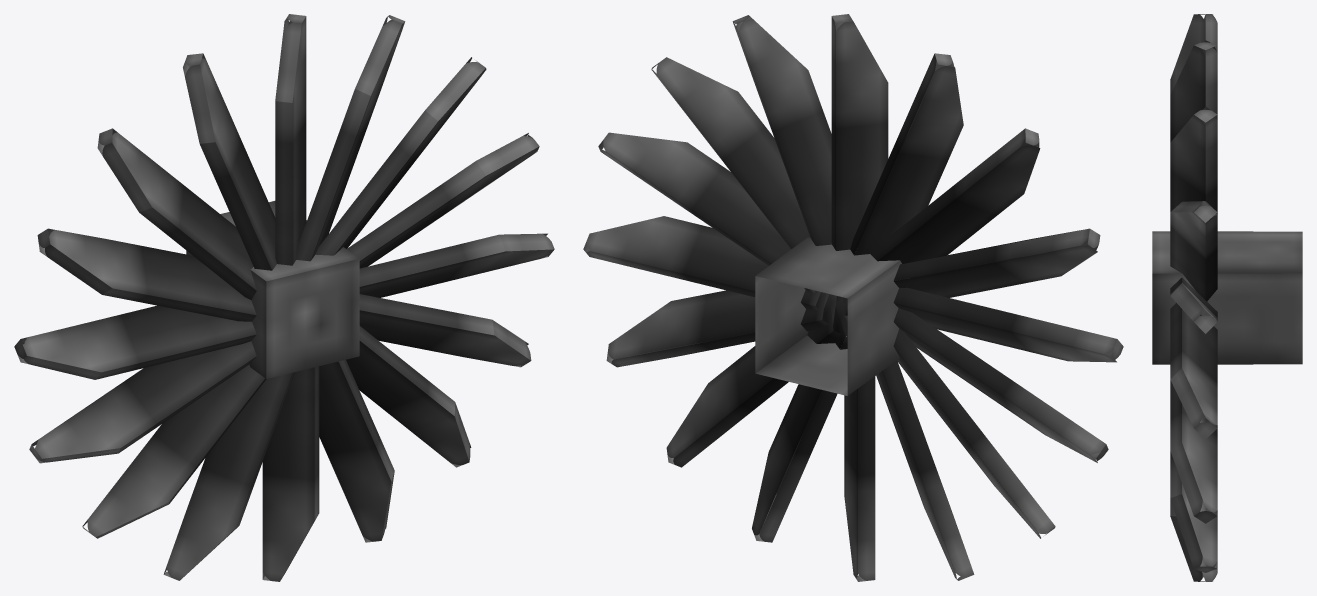
Rendered from gas_turbine_fan.obj.
The picture shows the model from 3 angles, left to right: view 1: azimuth 30°, elevation 25°; view 2: azimuth 150°, elevation 25°; view 3: azimuth 270°, elevation 25°; orthographic projection. The views are drawn at different scales.
Visible parts, largest first — view 1: cube_fan; view 2: cube_fan; view 3: cube_fan.
Part boxes in pixels (x1,y1,x2,y2): cube_fan: (14, 14, 554, 581); cube_fan: (583, 14, 1123, 581); cube_fan: (1152, 14, 1302, 581).
Size of the model in its own units: 2.12 by 2.12 by 0.5607.
